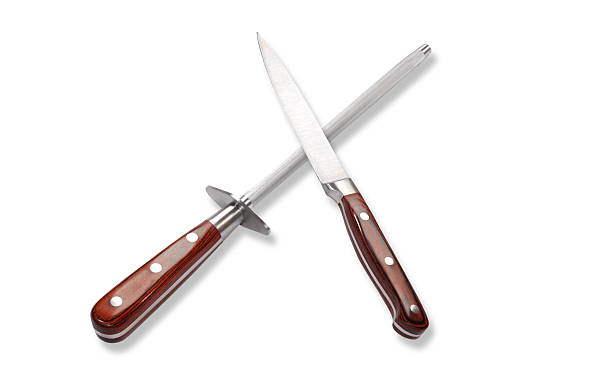knife: (255, 27, 430, 342)
